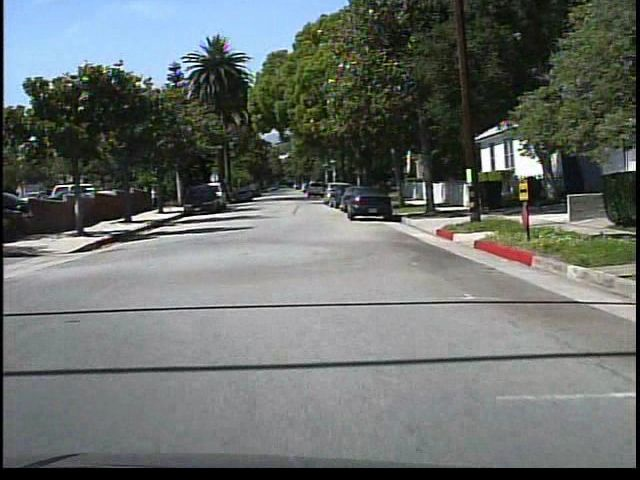person: (147, 183, 161, 212)
